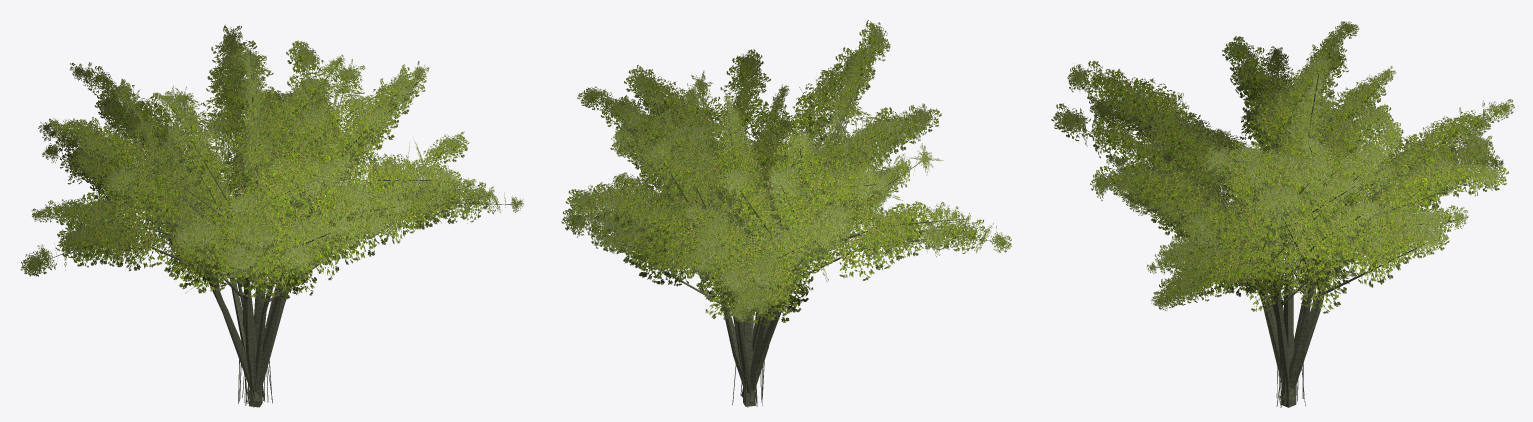
3 renders of one model, left to right at view 1: azimuth 30°, elevation 25°; view 2: azimuth 150°, elevation 25°; view 3: azimuth 270°, elevation 25°, orthographic. The views are drawn at different scales.
Visible parts, largest first — view 1: Folhas, Tronco, Ramificacao; view 2: Folhas, Tronco; view 3: Folhas, Tronco.
Boxes of the visible parts, x1,y1,x2,y2 form: Folhas: (20, 24, 523, 301); Tronco: (35, 44, 514, 407); Ramificacao: (238, 357, 272, 407); Folhas: (561, 20, 1011, 326); Tronco: (584, 45, 999, 406); Folhas: (1051, 21, 1514, 313); Tronco: (1077, 31, 1504, 407).
Size of the model in its own units: 27.97 by 19.59 by 25.11.
Materials: 2 (2 with a texture image).
